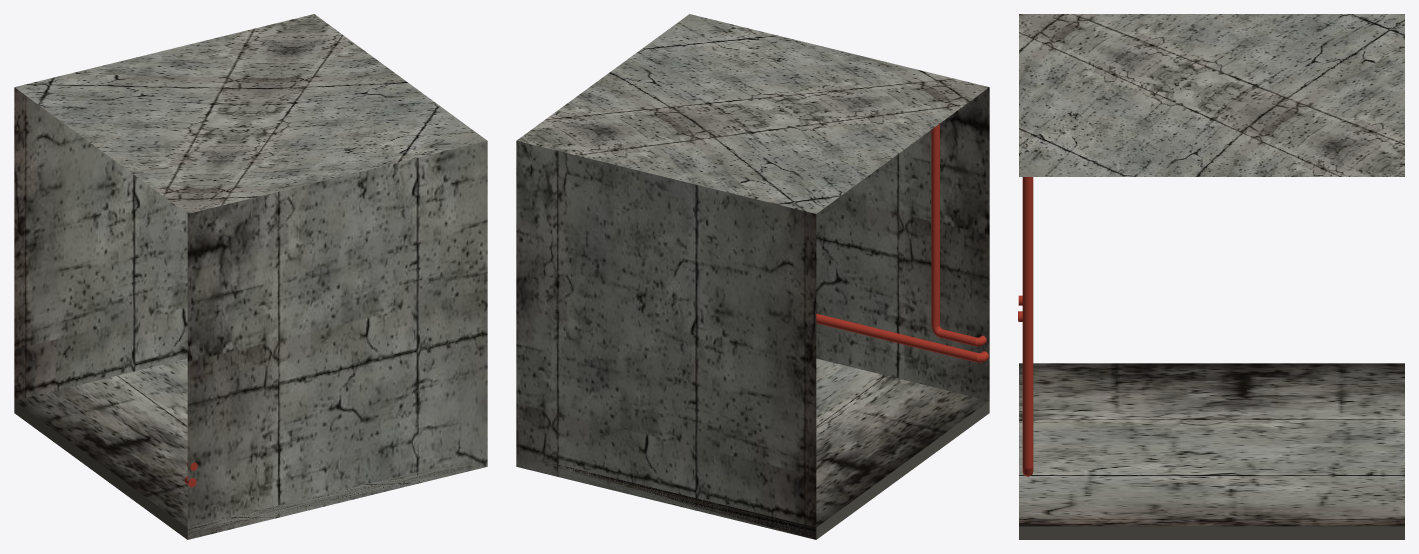
File: models_v2.glb
The picture shows the model from 3 angles, left to right: view 1: azimuth 30°, elevation 25°; view 2: azimuth 150°, elevation 25°; view 3: azimuth 270°, elevation 25°; orthographic projection. The views are drawn at different scales.
Parts seen in each view (by area): view 1: Cube.001; view 2: Cube.001; view 3: Cube.001.
Part boxes in pixels (x1=…): Cube.001: x1=14, y1=14, x2=487, y2=539; Cube.001: x1=516, y1=14, x2=989, y2=539; Cube.001: x1=1018, y1=14, x2=1404, y2=539.
Bounding box in the file's own units: 5 × 5.19 × 5.01.
3 materials, 3 textured.
